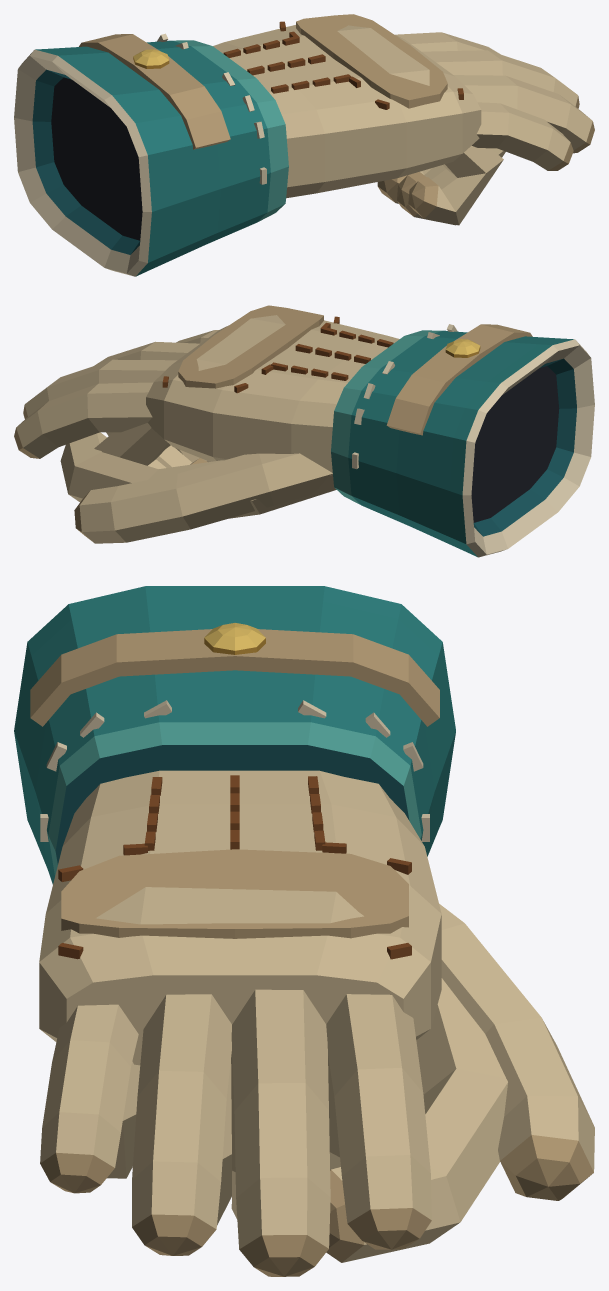
The model's file is hand.glb.
3 views of the same model, one above another, from view 1: azimuth 30°, elevation 25°; view 2: azimuth 150°, elevation 25°; view 3: azimuth 270°, elevation 25° (orthographic). The views are drawn at different scales.
Visible parts, largest first — view 1: closed, open; view 2: closed, open; view 3: closed, open.
Part boxes in pixels (x1,y1,x2,y2): closed: (14,14,505,276); open: (395,32,594,170); closed: (60,305,594,557); open: (14,330,332,543); closed: (14,586,507,1262); open: (40,903,594,1276).
Bounding box in the file's own units: 0.2274 × 0.1005 × 0.1353.
